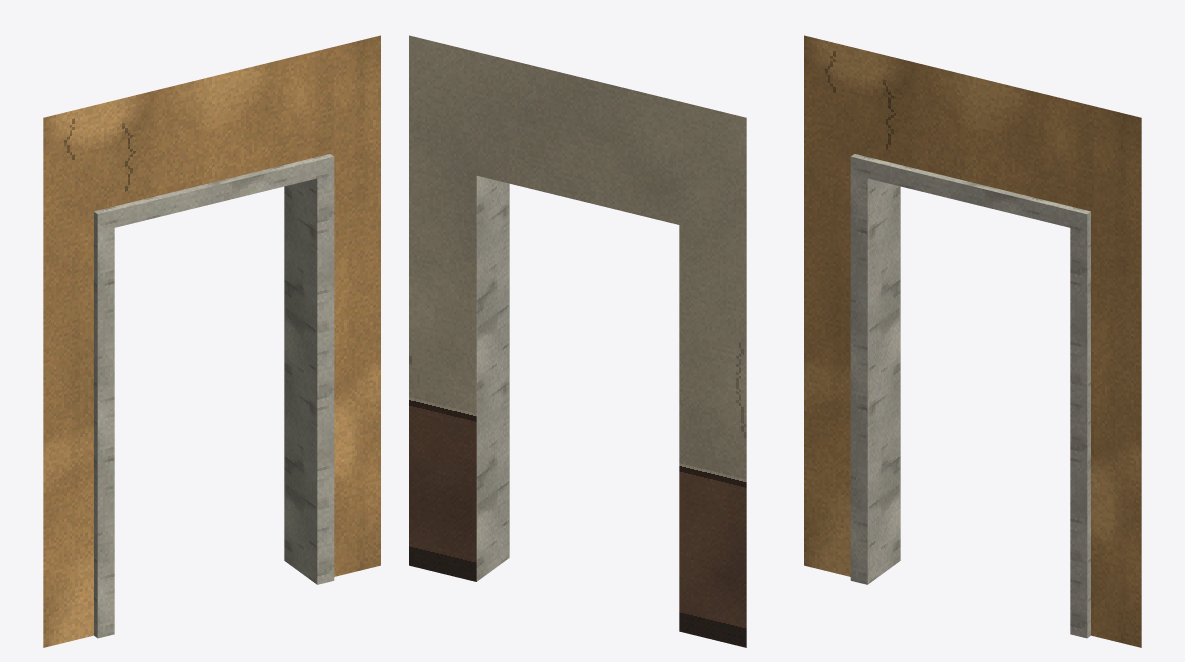
Rendered from ext_door.gltf.
The picture shows the model from 3 angles, left to right: view 1: azimuth 30°, elevation 25°; view 2: azimuth 150°, elevation 25°; view 3: azimuth 330°, elevation 25°; orthographic projection.
Visible parts, largest first — view 1: ext_door; view 2: ext_door; view 3: ext_door.
Boxes of the visible parts, box(x1,y1,x2,y2) form: ext_door: box(43, 35, 380, 647); ext_door: box(409, 35, 746, 647); ext_door: box(804, 35, 1141, 647).
Size of what is drawn, in the model's own units: 2 by 3 by 0.34.
3 materials, 3 textured.
